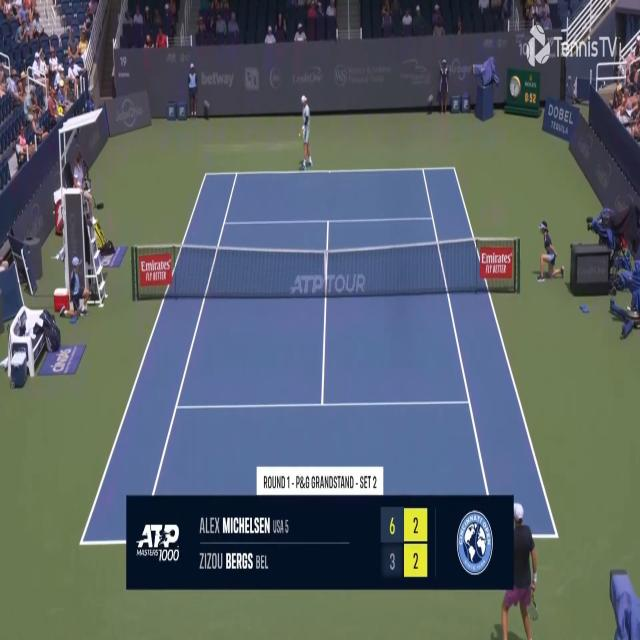tennis-player: (500, 502, 539, 639), (296, 92, 313, 172)
